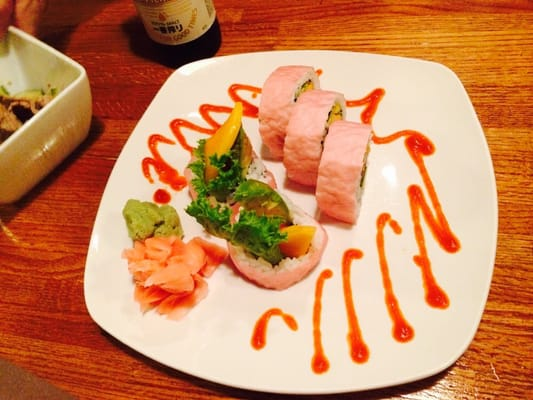soup: (180, 106, 331, 291)
sushi: (0, 24, 94, 214)
